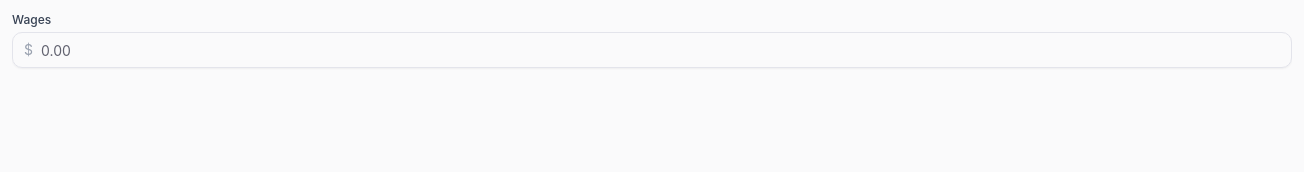
CurrencyInput › adds thousands separators live while typing
Type "10000" into the field labelled "Wages" at x=652, y=50, box [12,32,1292,68]
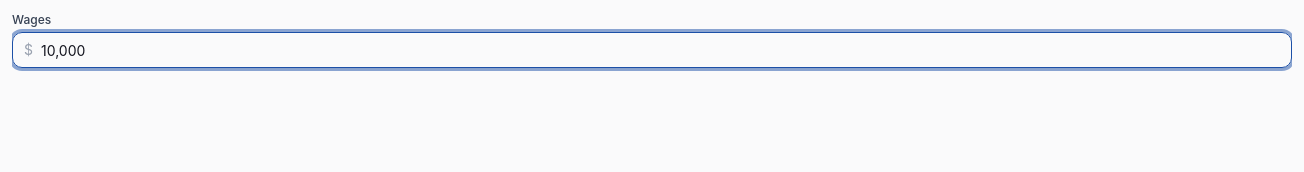
Now the field labelled "Wages" holds "10,000", box [12,32,1292,68]
